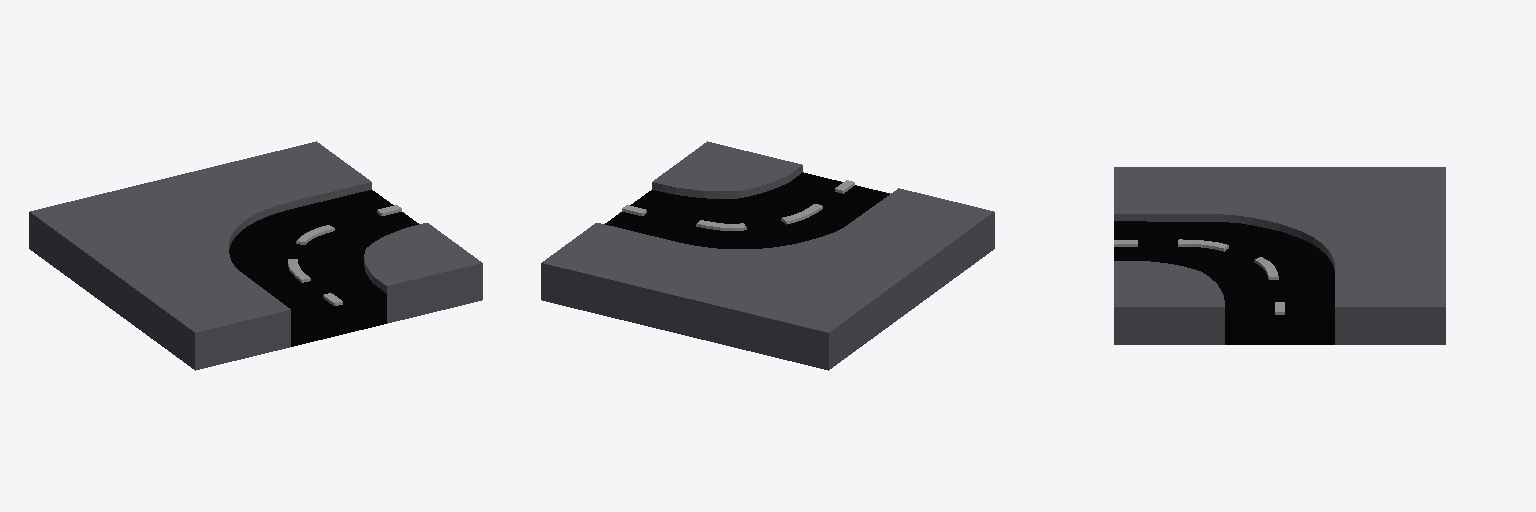
The model's file is Street_Curve.obj.
The picture shows the model from 3 angles: view 1: azimuth 30°, elevation 25°; view 2: azimuth 150°, elevation 25°; view 3: azimuth 270°, elevation 25°; orthographic projection.
Parts seen in each view (by area): view 1: Street_Curve.001; view 2: Street_Curve.001; view 3: Street_Curve.001.
Boxes of the visible parts, x1,y1,x2,y2 form: Street_Curve.001: [29, 141, 482, 370]; Street_Curve.001: [541, 141, 994, 370]; Street_Curve.001: [1114, 167, 1445, 344].
Size of the model in its own units: 2 by 0.25 by 2.